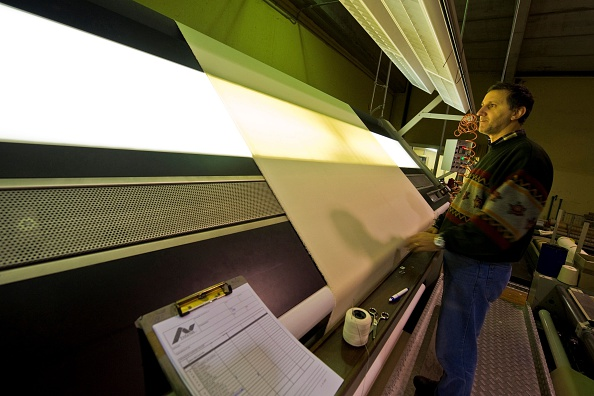em pe: (404, 80, 558, 396)
